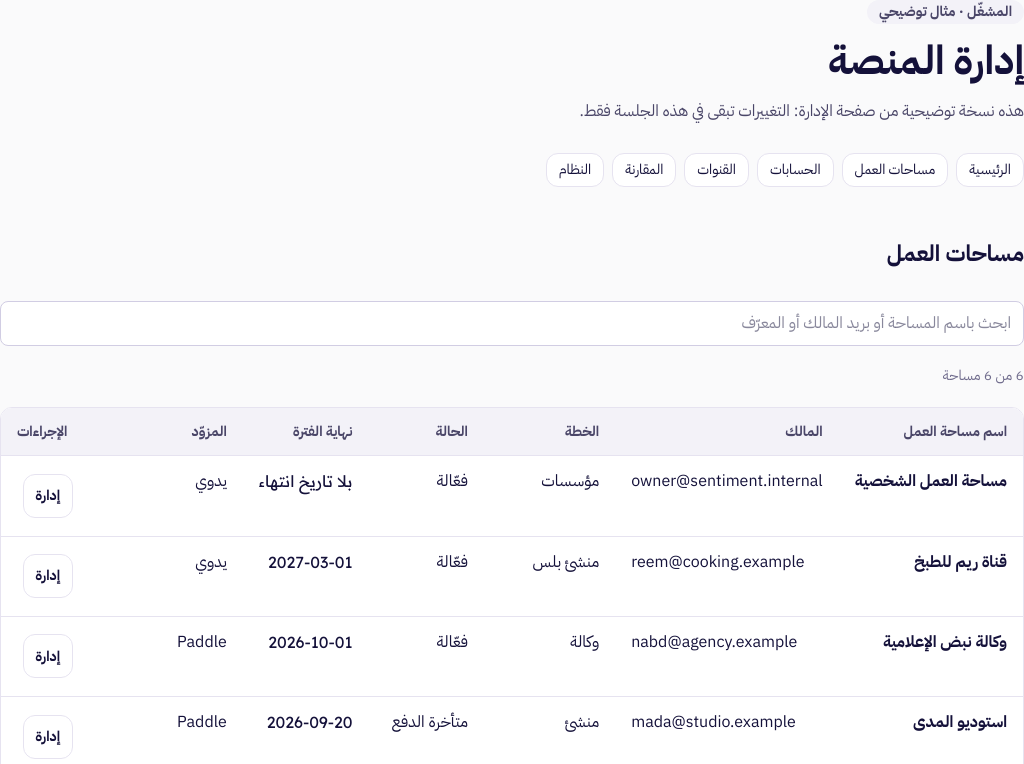
it: AdminPage in demo mode › a plan set over an active Paddle subscription is refused in the panel, as the server refuses it
Click the button "إدارة" in the row of "وكالة نبض الإعلامية". click: (48, 656)
box: [23,634,73,678]
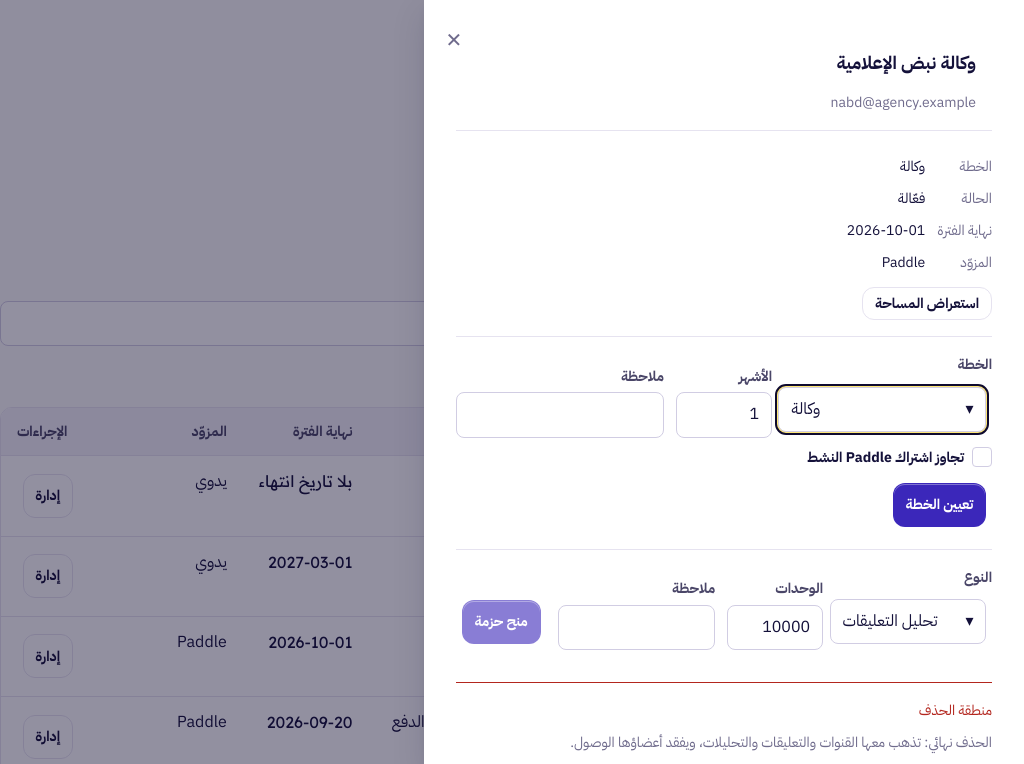
Click the button "تعيين الخطة". click: (940, 505)
box: [893,483,986,527]
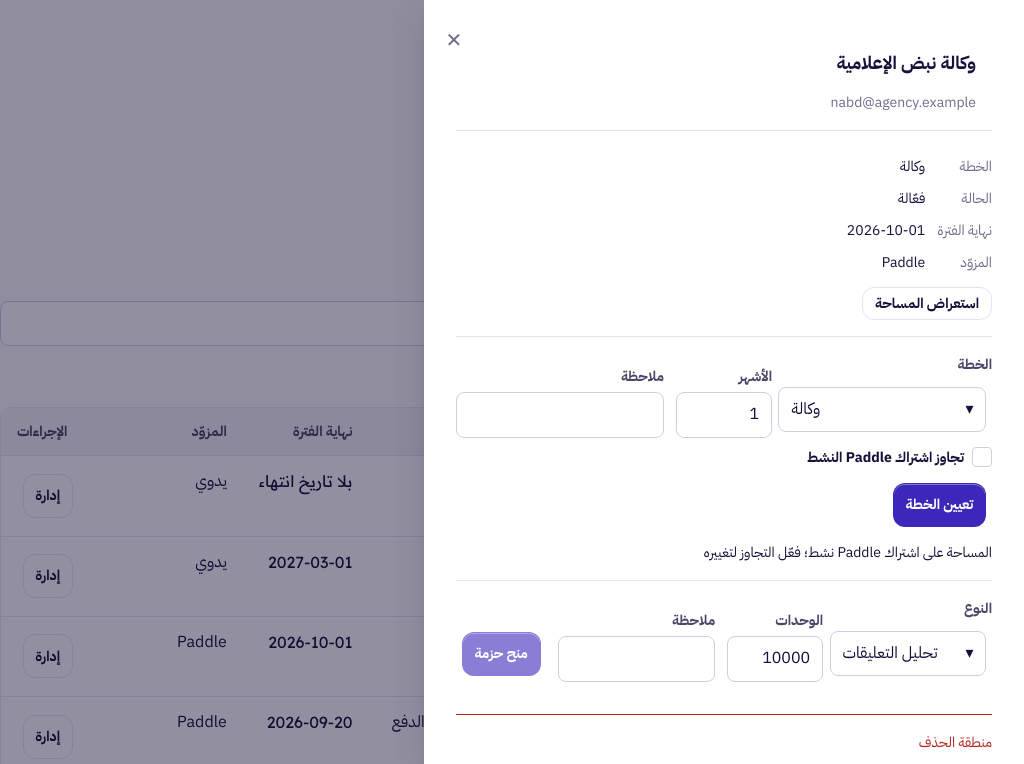
Expected: the message reads "المساحة على اشتراك Paddle نشط؛ فعّل التجاوز لتغييره", [704,542,992,562]
Click the dropdown named "اختر خطة". click: (882, 409)
box: [778,387,986,432]
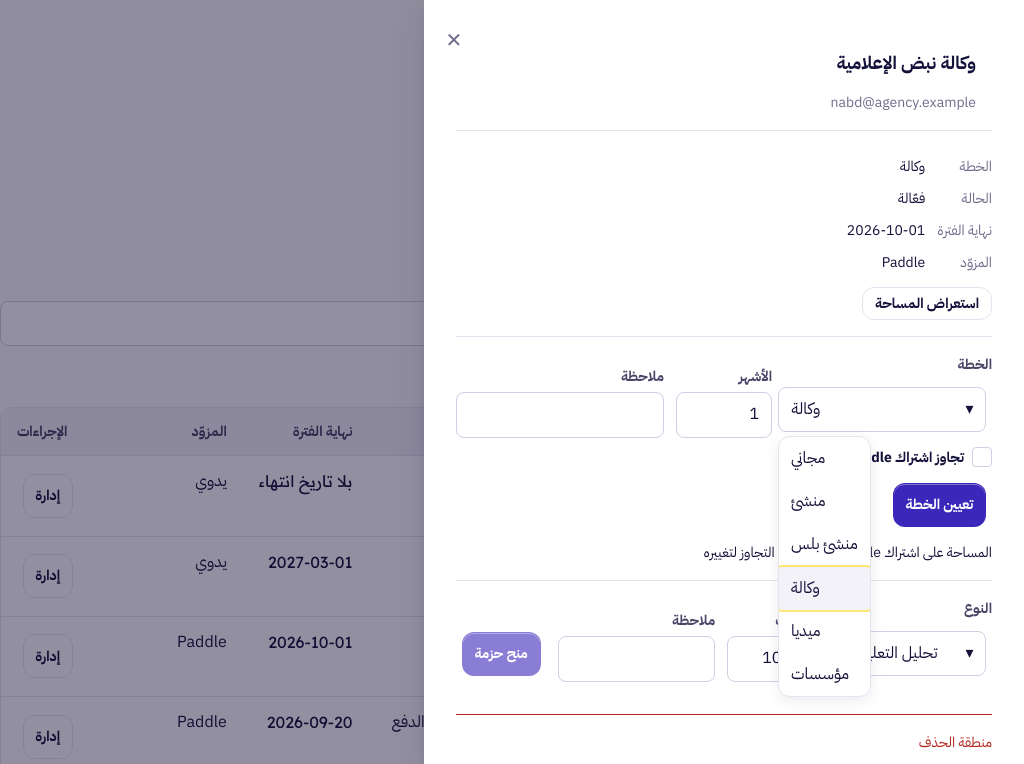
Click the option "مؤسسات". click: (820, 674)
box: [791,662,849,686]
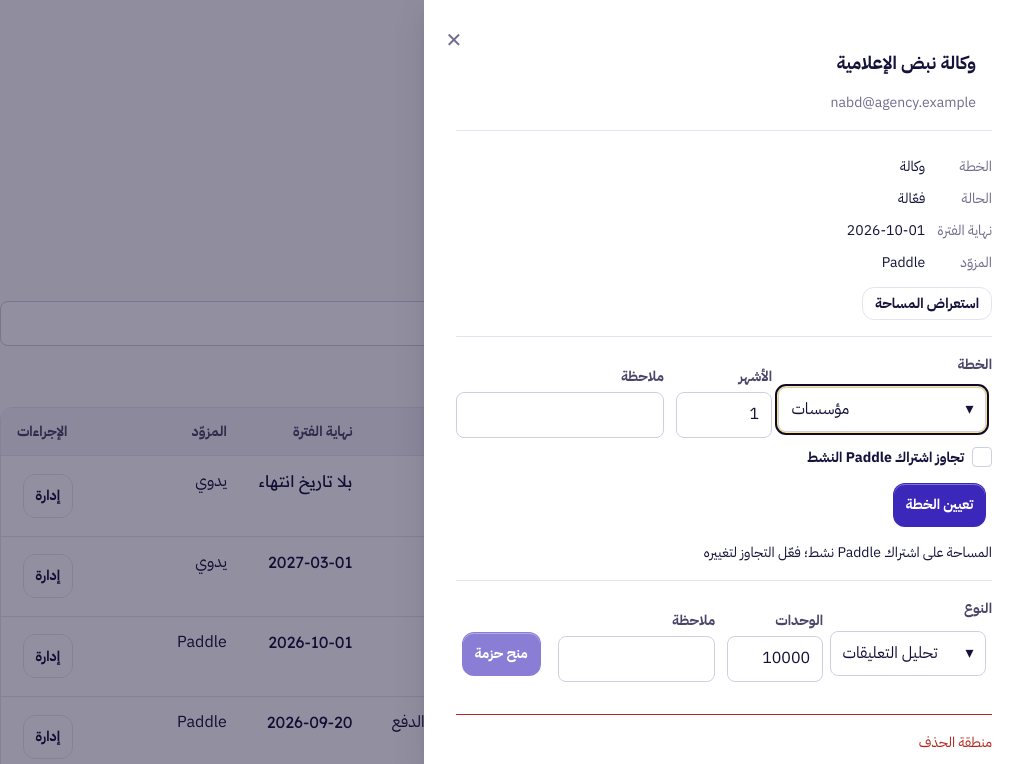
Click the checkbox named "تجاوز اشتراك Paddle النشط". click: (982, 457)
box: [972,447,992,467]
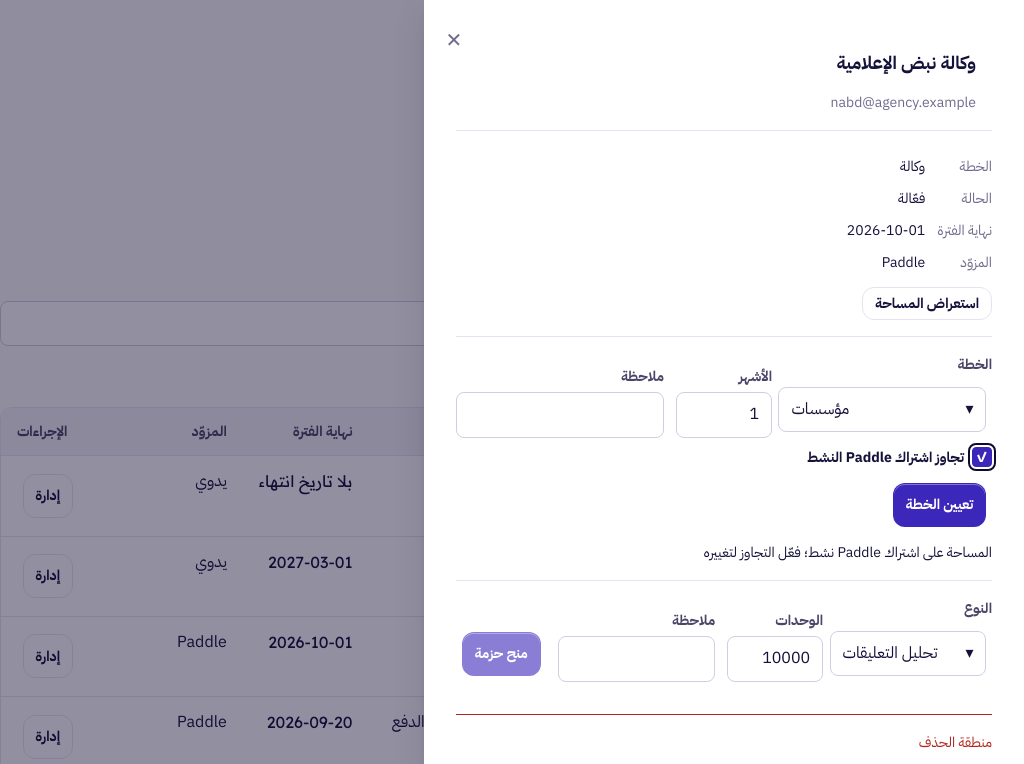
Click the button "تعيين الخطة". click: (940, 505)
box: [893,483,986,527]
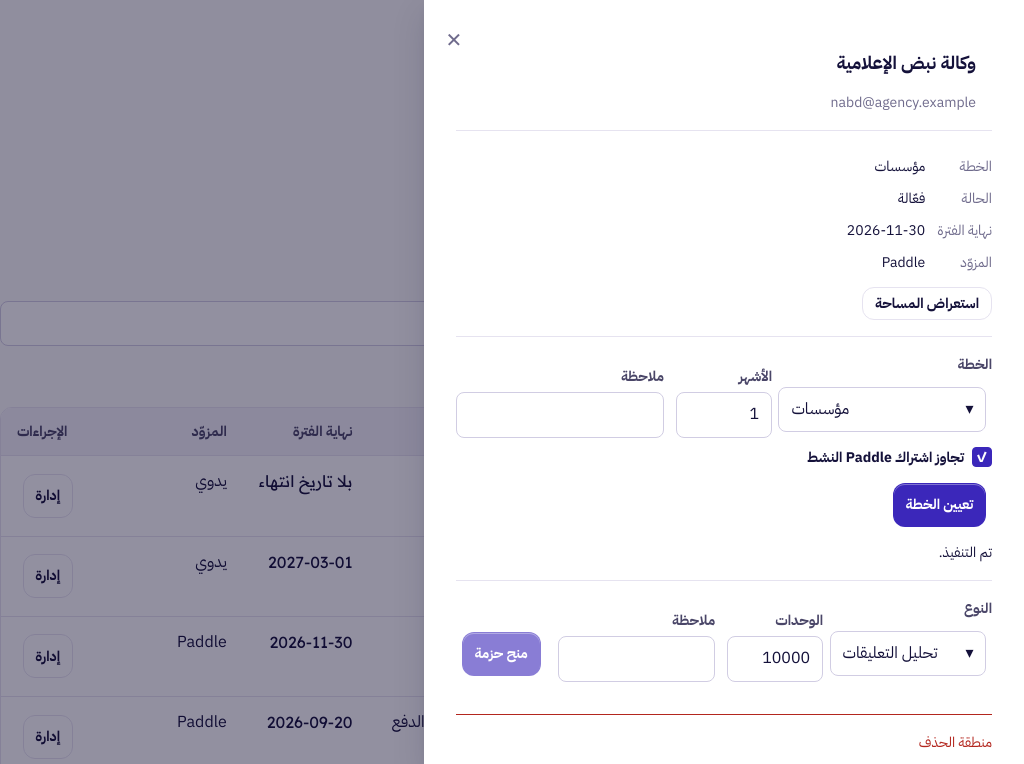
Expected: the text "تم التنفيذ." is shown, [939,542,992,562]
